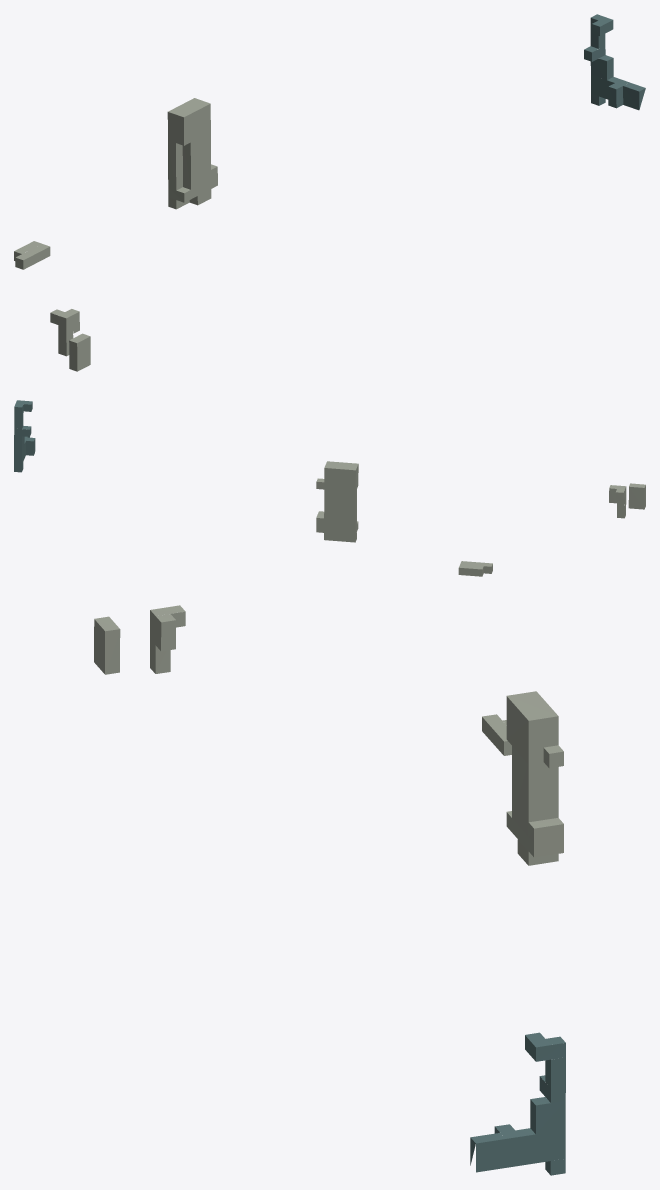
3 views of the same model, one above another, from view 1: azimuth 30°, elevation 25°; view 2: azimuth 150°, elevation 25°; view 3: azimuth 270°, elevation 25° (orthographic). The views are drawn at different scales.
Visible parts, largest first — view 1: measured-industrial; view 2: measured-industrial; view 3: measured-industrial.
Boxes of the visible parts, x1,y1,x2,y2 form: measured-industrial: [14, 14, 645, 371]; measured-industrial: [14, 400, 645, 576]; measured-industrial: [94, 605, 565, 1175].
Bounding box in the file's own units: 76.8 × 11.11 × 29.57.
